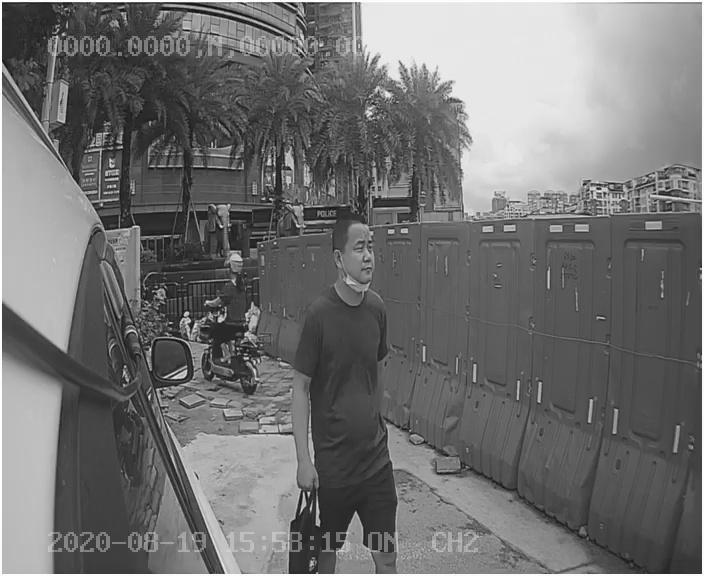person: (273, 216, 425, 528)
